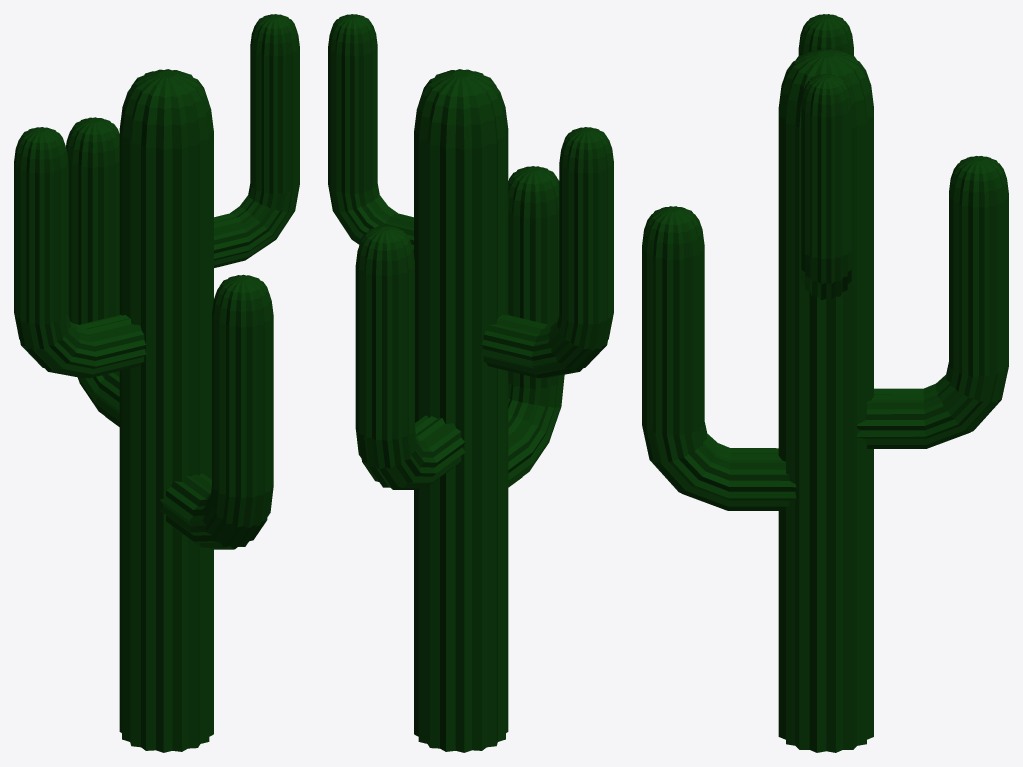
Rendered from cactus2.obj.
3 views of the same model, side by side, from view 1: azimuth 30°, elevation 25°; view 2: azimuth 150°, elevation 25°; view 3: azimuth 270°, elevation 25° (orthographic). The views are drawn at different scales.
Parts seen in each view (by area): view 1: Circle_Circle.004; view 2: Circle_Circle.004; view 3: Circle_Circle.004.
Part boxes in pixels (box(x1,y1,x2,y2)): Circle_Circle.004: box(14, 14, 299, 752); Circle_Circle.004: box(328, 14, 613, 752); Circle_Circle.004: box(642, 14, 1008, 752).
Size of the model in its own units: 9.87 by 23.39 by 10.94.
